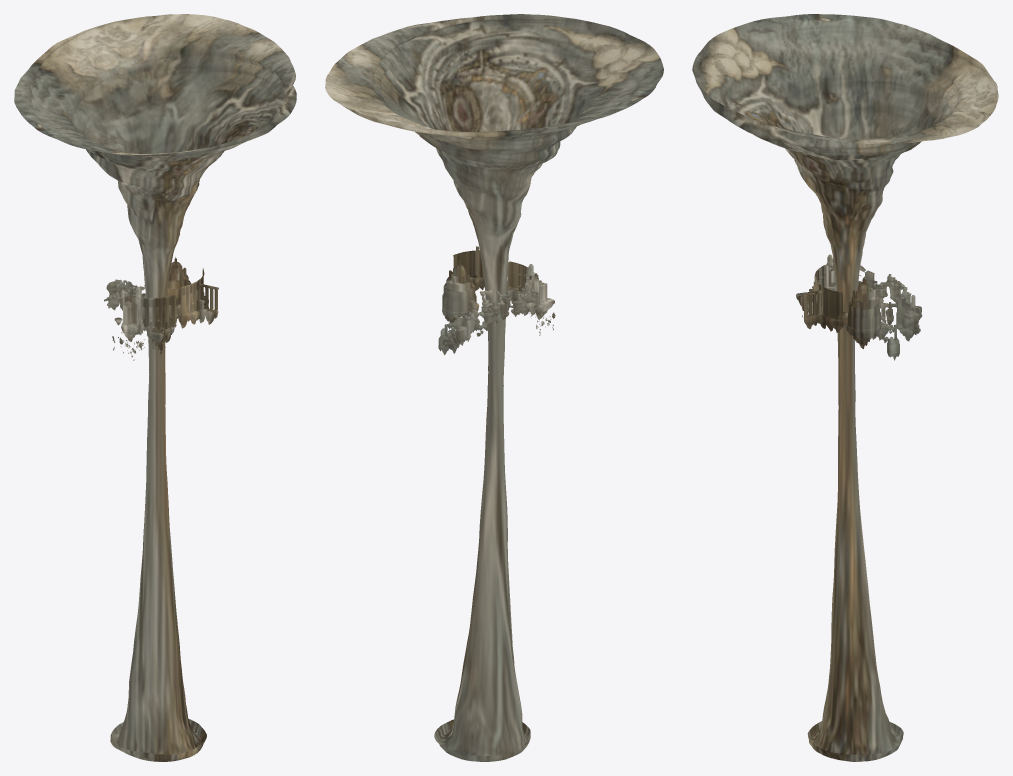
The model's file is tile_4_3.glb.
3 views of the same model, side by side, from view 1: azimuth 30°, elevation 25°; view 2: azimuth 150°, elevation 25°; view 3: azimuth 270°, elevation 25° (orthographic).
Parts seen in each view (by area): view 1: mesh[1].053, mesh[2].038; view 2: mesh[1].053, mesh[2].038; view 3: mesh[1].053, mesh[2].038.
Boxes of the visible parts, x1,y1,x2,y2 form: mesh[1].053: [14, 14, 296, 761]; mesh[2].038: [104, 257, 218, 360]; mesh[1].053: [325, 14, 663, 761]; mesh[2].038: [438, 246, 555, 354]; mesh[1].053: [692, 14, 998, 761]; mesh[2].038: [796, 254, 922, 360].
Bounding box in the file's own units: 1441 × 3412 × 1433.
Materials: 1 (1 with a texture image).
